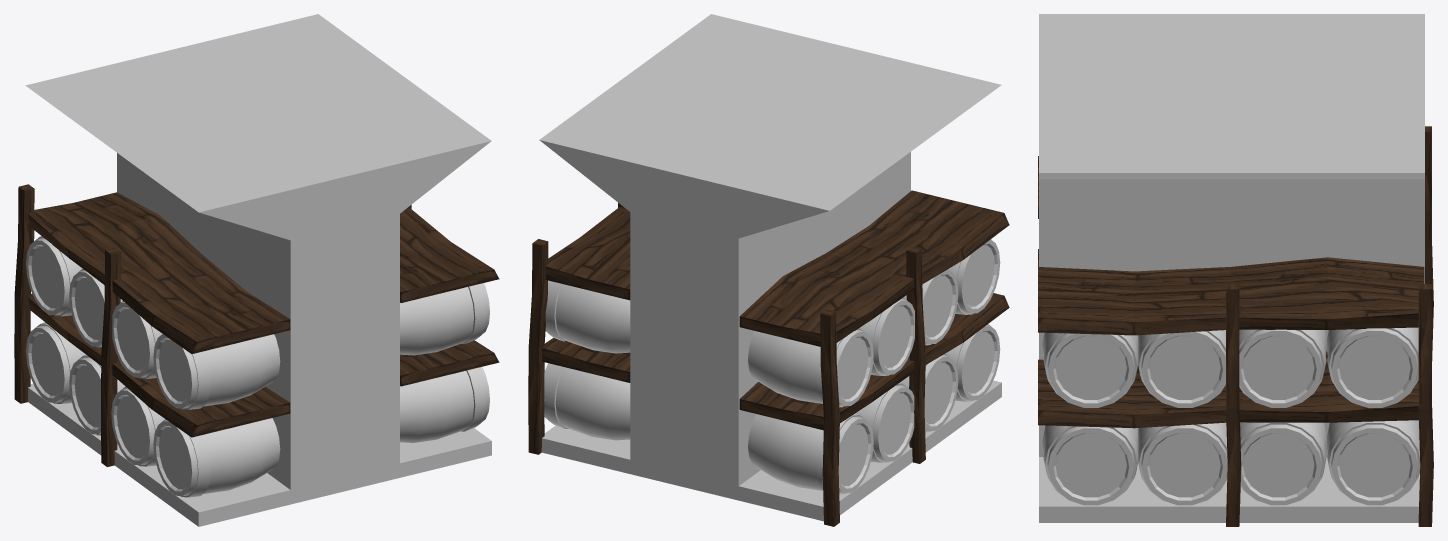
File: wall_barrels_2sides.FBX
The picture shows the model from 3 angles, left to right: view 1: azimuth 30°, elevation 25°; view 2: azimuth 150°, elevation 25°; view 3: azimuth 270°, elevation 25°; orthographic projection. The views are drawn at different scales.
Visible parts, largest first — view 1: wall with double barrels, Box018, Cylinder015, Cylinder017, Box015, Box017, Cylinder020, Box016, Cylinder022, Cylinder021, Cylinder016, Cylinder018 (+1 smaller); view 2: wall with double barrels, Box018, Cylinder020, Cylinder022, Box015, Box017, Cylinder019, Box016, Cylinder018, Cylinder015, Cylinder017, Cylinder021 (+1 smaller); view 3: wall with double barrels, Box018, Box015, Cylinder020, Cylinder015, Cylinder019, Cylinder022, Cylinder021, Cylinder018, Cylinder017, Cylinder016, Box017 (+1 smaller).
Part boxes in pixels (x1,y1,x2,y2): wall with double barrels: (25, 14, 491, 526); Box018: (28, 192, 499, 353); Cylinder015: (153, 367, 489, 497); Cylinder017: (153, 283, 489, 409); Box015: (28, 293, 499, 437); Box017: (14, 184, 34, 403); Cylinder020: (26, 322, 85, 403); Box016: (101, 205, 411, 466); Cylinder022: (26, 236, 82, 316); Cylinder021: (111, 386, 164, 466); Cylinder016: (112, 301, 162, 378); Cylinder018: (69, 269, 122, 347); wall with double barrels: (539, 14, 1001, 521); Box018: (545, 190, 1009, 346); Cylinder020: (544, 363, 873, 494); Cylinder022: (545, 280, 873, 407); Box015: (542, 293, 1009, 430); Box017: (528, 239, 839, 526); Cylinder019: (856, 382, 914, 462); Box016: (618, 202, 925, 463); Cylinder018: (860, 297, 914, 375); Cylinder015: (945, 324, 1000, 401); Cylinder017: (948, 239, 1000, 314); Cylinder021: (900, 354, 958, 432); wall with double barrels: (1039, 14, 1424, 522); Box018: (1038, 156, 1424, 335); Box015: (1038, 249, 1418, 428); Cylinder020: (1327, 420, 1420, 505); Cylinder015: (1042, 425, 1138, 505); Cylinder019: (1240, 422, 1326, 505); Cylinder022: (1327, 327, 1418, 407); Cylinder021: (1138, 422, 1227, 505); Cylinder018: (1239, 329, 1326, 407); Cylinder017: (1042, 332, 1138, 407); Cylinder016: (1138, 330, 1225, 407); Box017: (1418, 126, 1433, 526).
Size of the model in its own units: 26.02 by 25.4 by 26.04.
